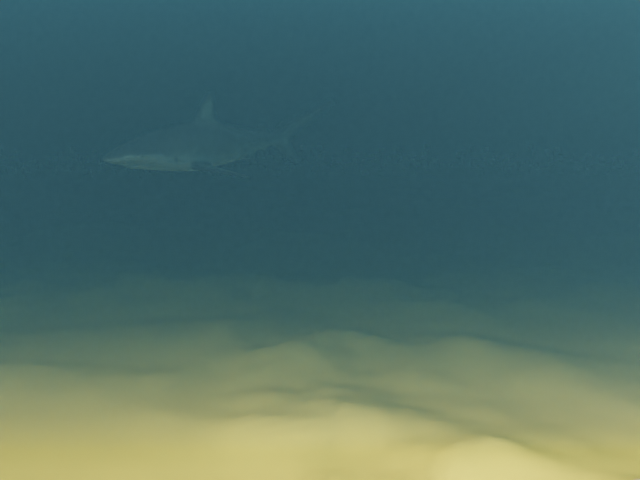Carribean Shark.001: (102, 93, 332, 177)
